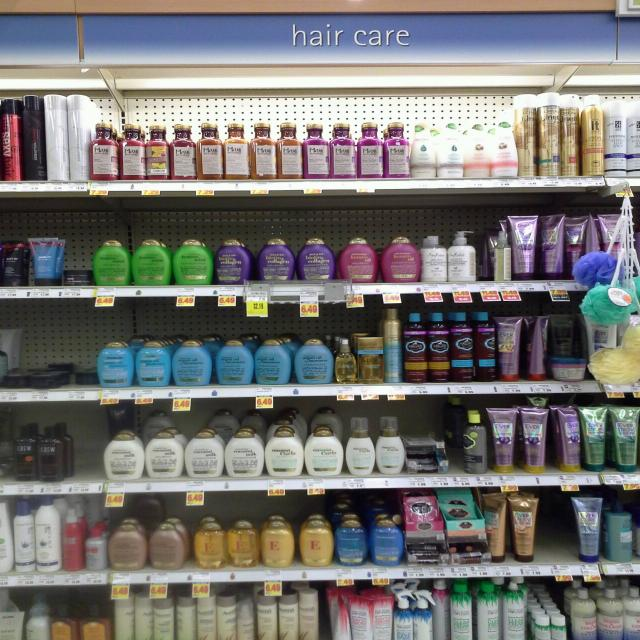empty: (536, 493, 576, 568), (68, 414, 101, 488)
